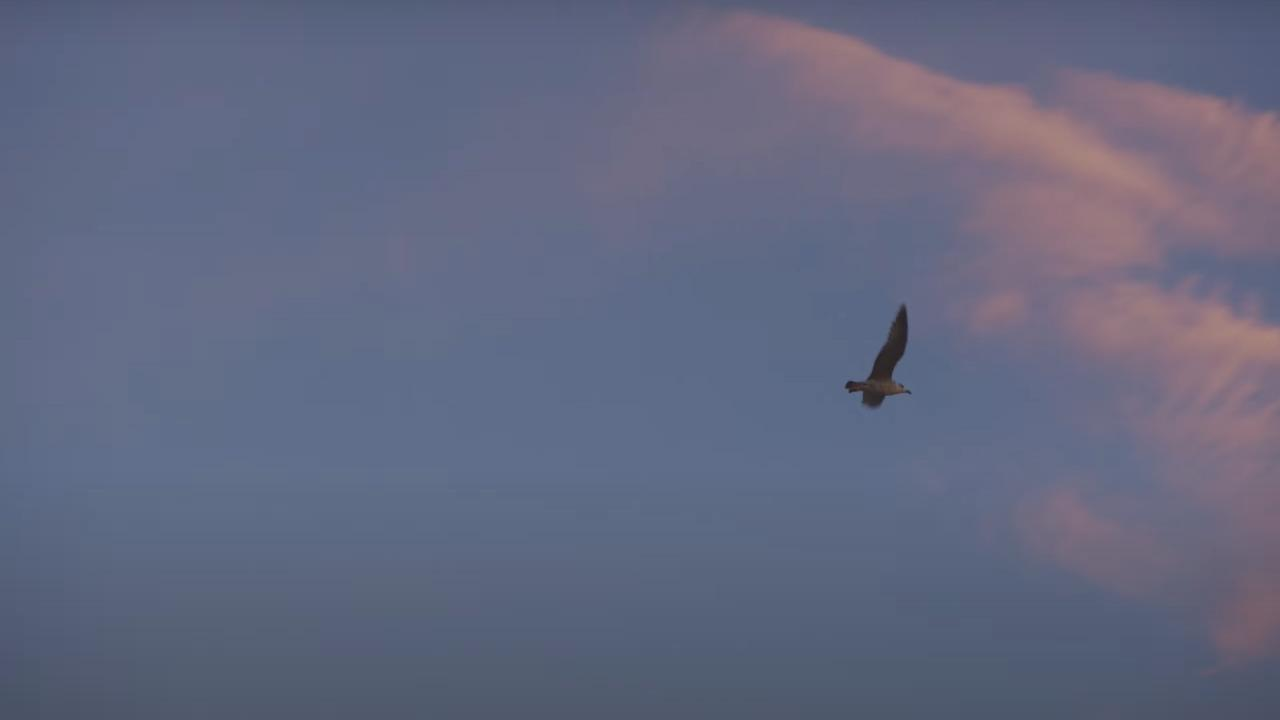Bird: (839, 293, 921, 420)
